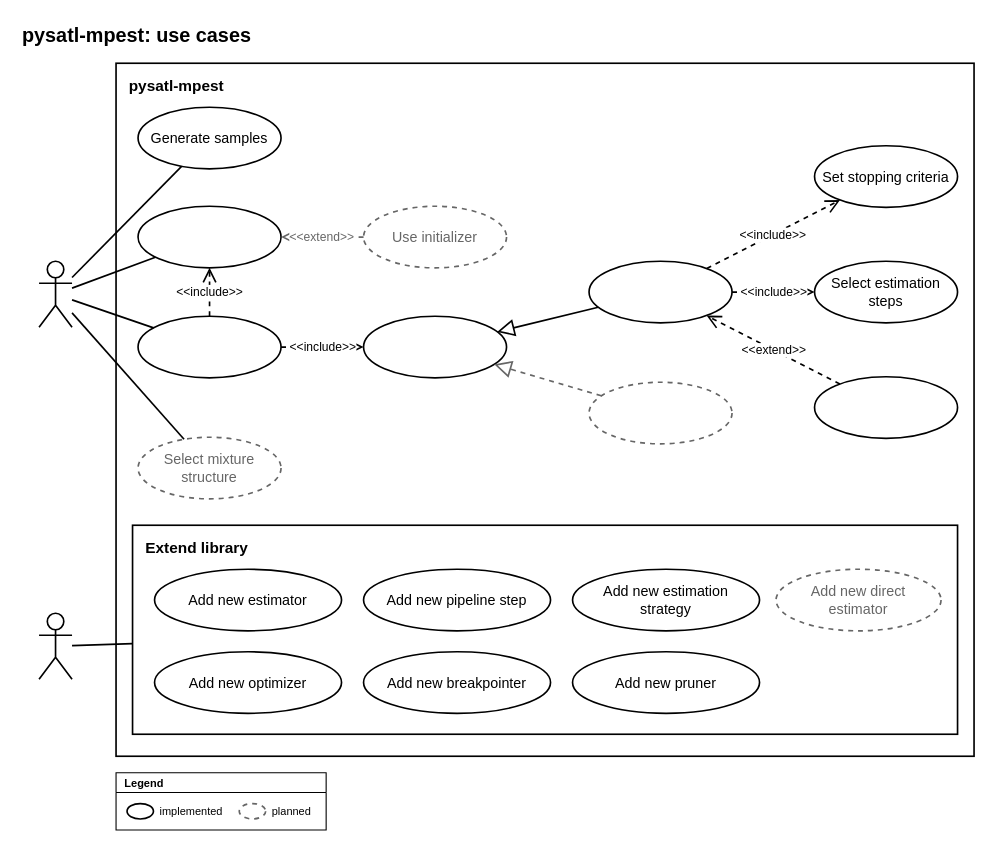
Some shapes in this 994 by 849 pixel diagram are drawn without their labels. Each missing label, with the centre of its shape:
Configure algorithm: the point at 434,346
Configure direct algorithm: the point at 660,412
Configure iterative algorithm: the point at 660,291
Configure mixture: the point at 209,236
Developer: the point at 55,646
Researcher: the point at 55,294
Run algorithm: the point at 209,346
Set pruners: the point at 885,407
